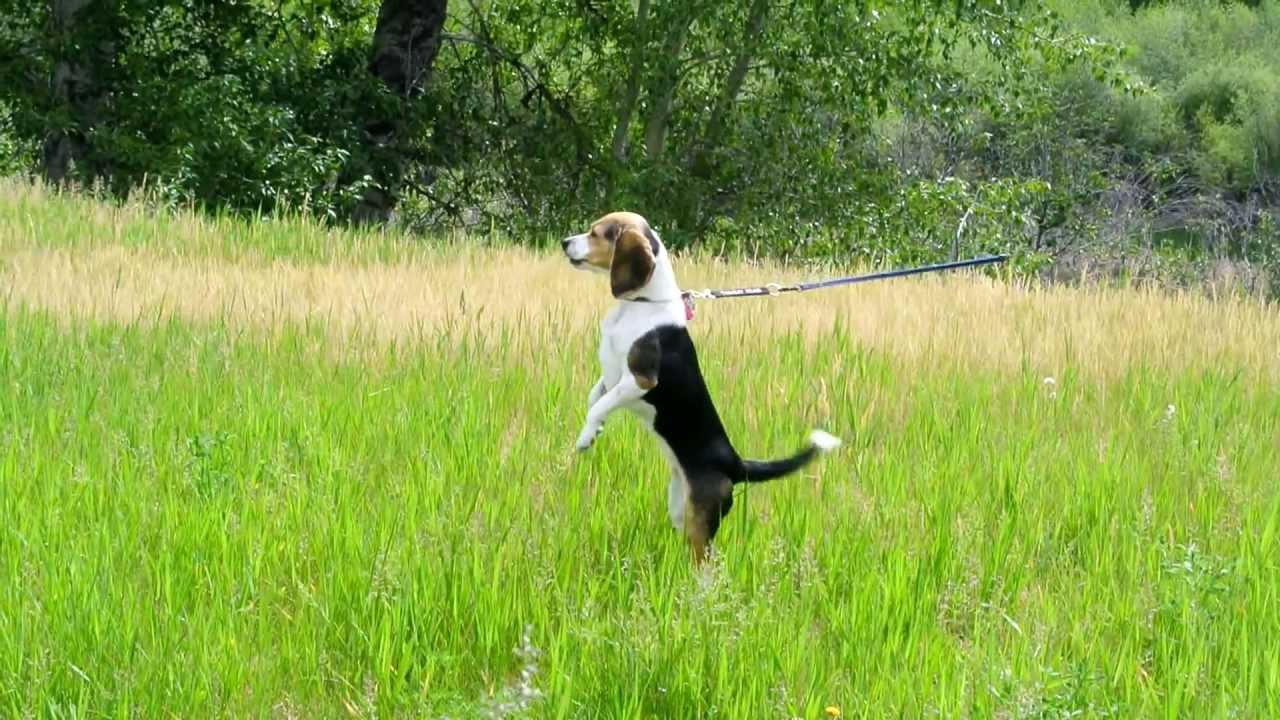dog: (517, 196, 867, 601)
